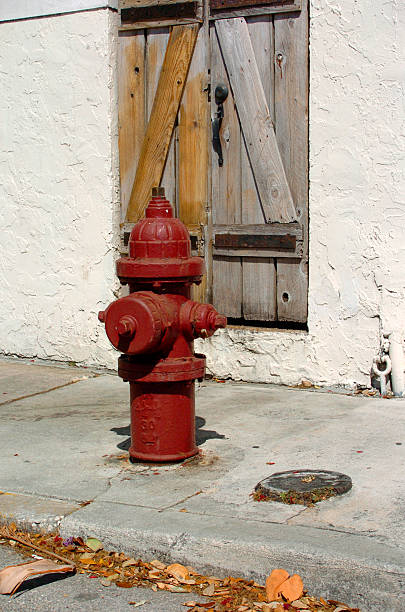firehdyrant: (88, 181, 236, 471)
